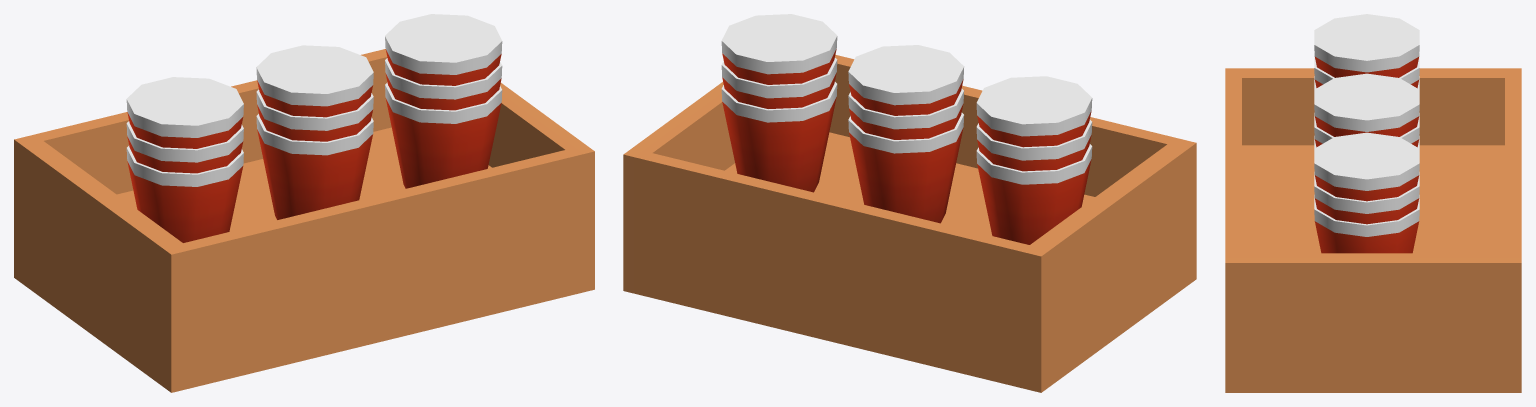
The model's file is Map02_Decor_Thunggiay_01.fbx.
The picture shows the model from 3 angles, left to right: view 1: azimuth 30°, elevation 25°; view 2: azimuth 150°, elevation 25°; view 3: azimuth 270°, elevation 25°; orthographic projection. The views are drawn at different scales.
Visible parts, largest first — view 1: Map02_Decor; view 2: Map02_Decor; view 3: Map02_Decor.
Boxes of the visible parts, x1=… form: Map02_Decor: x1=14, y1=14, x2=594, y2=392; Map02_Decor: x1=623, y1=14, x2=1196, y2=392; Map02_Decor: x1=1225, y1=14, x2=1521, y2=392.
Bounding box in the file's own units: 262 × 127 × 169.
